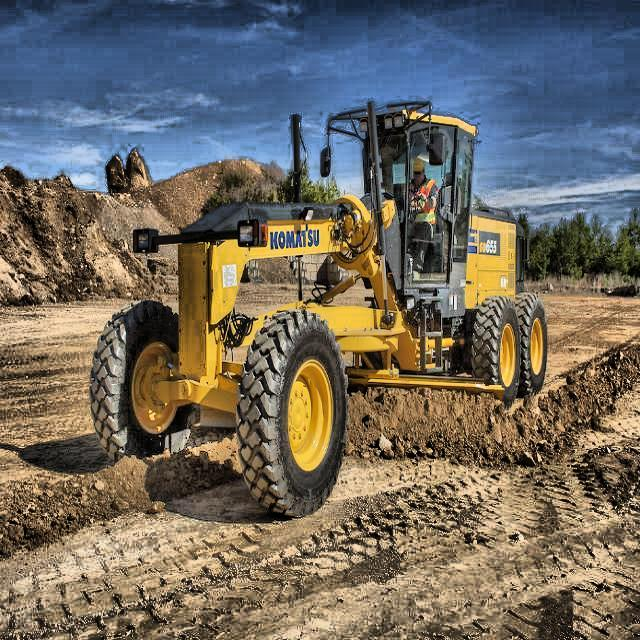bull_dozer/loader/grader: (90, 94, 551, 520)
person: (397, 157, 443, 268)
